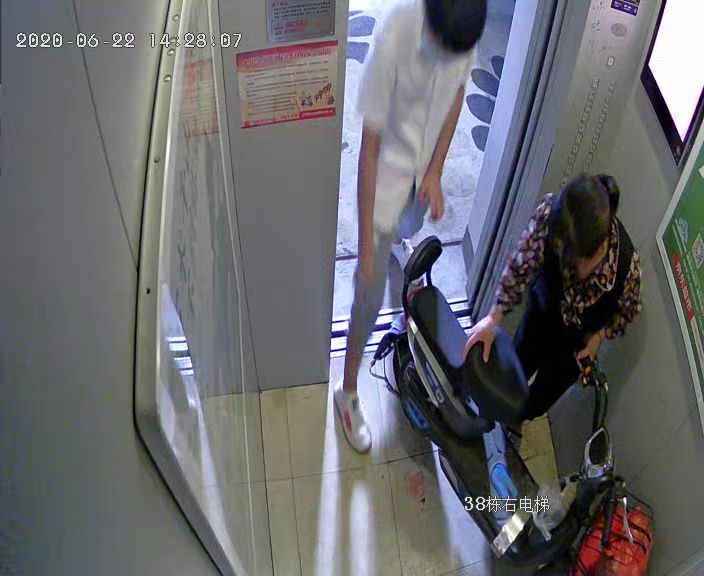Electric-bicycle: (370, 235, 653, 574)
